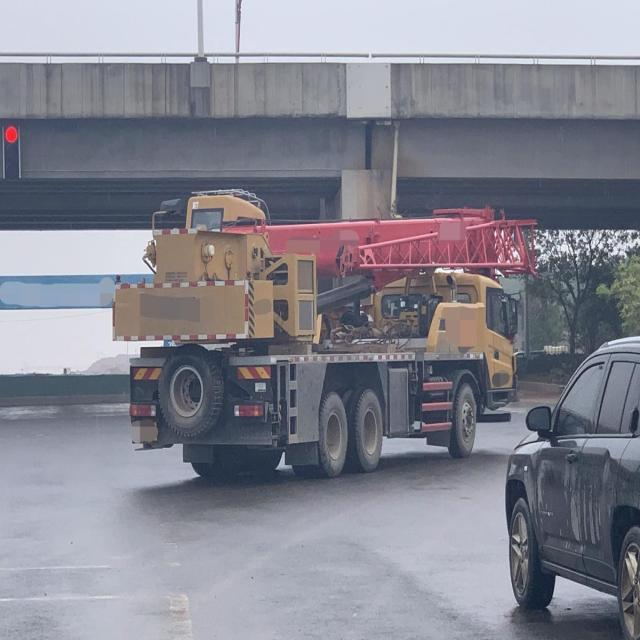crane: (105, 173, 546, 495)
